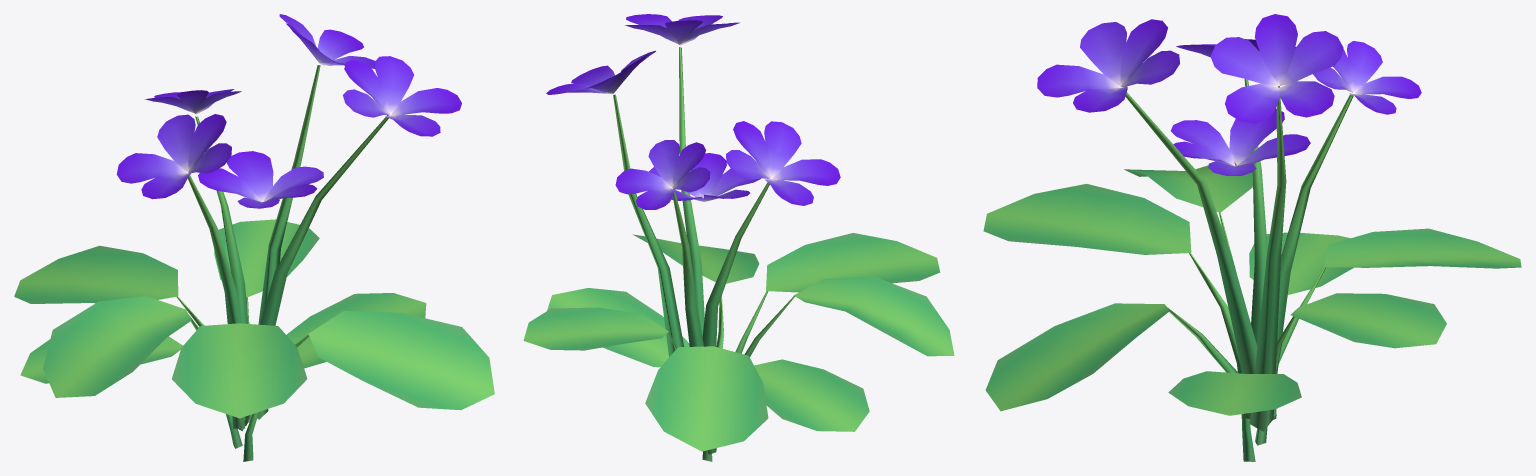
The model's file is VioletPlant.fbx.
3 views of the same model, side by side, from view 1: azimuth 30°, elevation 25°; view 2: azimuth 150°, elevation 25°; view 3: azimuth 270°, elevation 25° (orthographic). The views are drawn at different scales.
Visible parts, largest first — view 1: VioletPlant; view 2: VioletPlant; view 3: VioletPlant.
Part boxes in pixels (x1=…): VioletPlant: x1=14, y1=14, x2=494, y2=461; VioletPlant: x1=523, y1=14, x2=954, y2=461; VioletPlant: x1=983, y1=14, x2=1521, y2=461.
Size of the model in its own units: 60.95 by 61.33 by 62.61.
